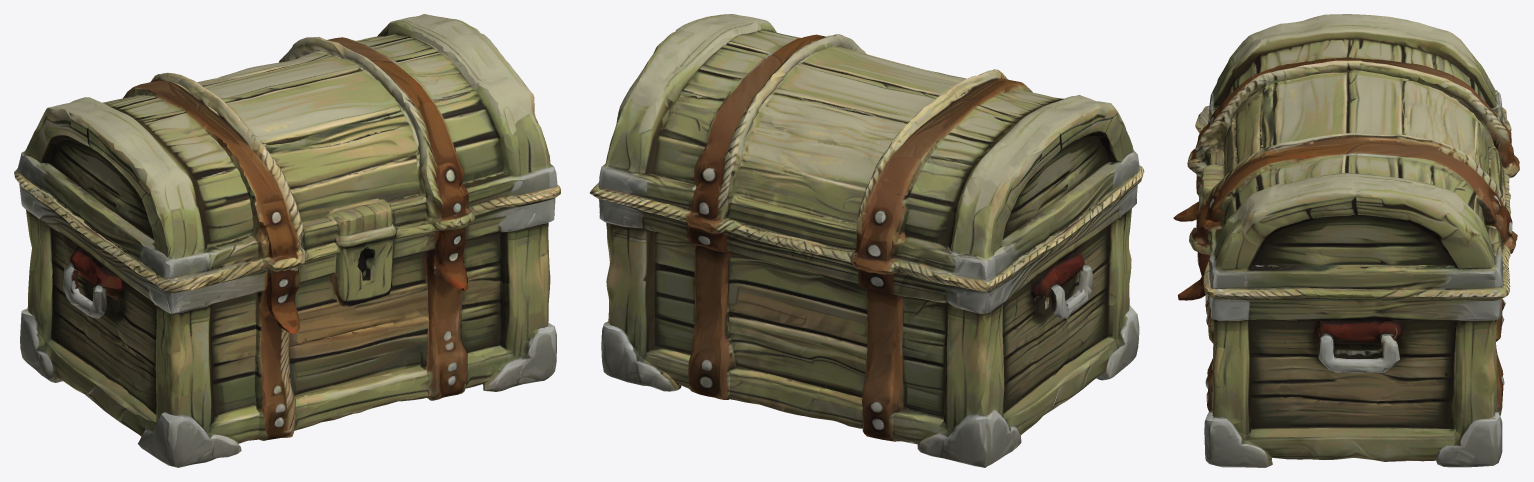
The model's file is struct_chest.glb.
3 renders of one model, left to right at view 1: azimuth 30°, elevation 25°; view 2: azimuth 150°, elevation 25°; view 3: azimuth 270°, elevation 25°, orthographic. The views are drawn at different scales.
Visible parts, largest first — view 1: struct_chest; view 2: struct_chest; view 3: struct_chest.
Part boxes in pixels (left/top/right/bottom): struct_chest: left=14, top=14, right=560, bottom=467; struct_chest: left=590, top=14, right=1144, bottom=467; struct_chest: left=1173, top=14, right=1519, bottom=467.
Bounding box in the file's own units: 0.9 × 0.6115 × 0.6799.
Materials: 1 (1 with a texture image).
